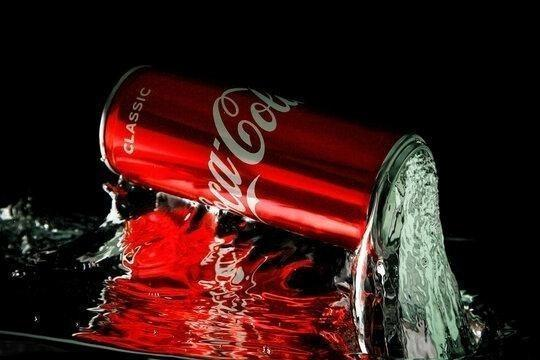tin can: (97, 61, 439, 254)
